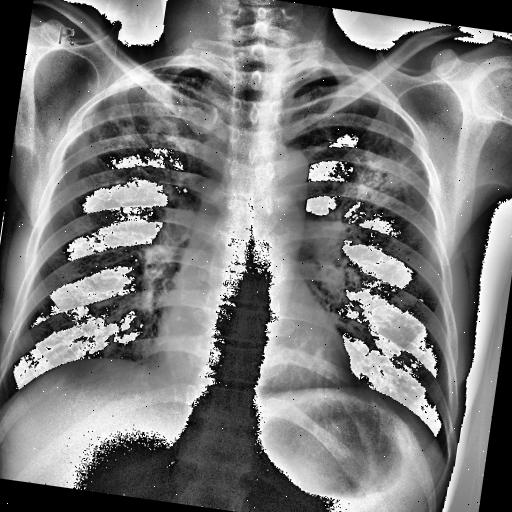13- Pulmonary fibrosis: (89, 61, 210, 187), (329, 144, 421, 229)
6- Infiltration: (73, 48, 221, 193), (78, 54, 220, 186), (89, 61, 210, 187), (326, 122, 440, 236), (335, 136, 428, 238)
7- Lung Opacity: (73, 48, 221, 193), (326, 122, 440, 236), (335, 136, 428, 238)
8- Nodule-Mass: (78, 54, 220, 186)
